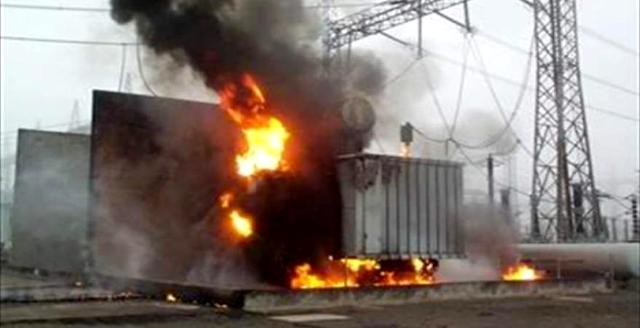fire: (221, 74, 291, 253)
